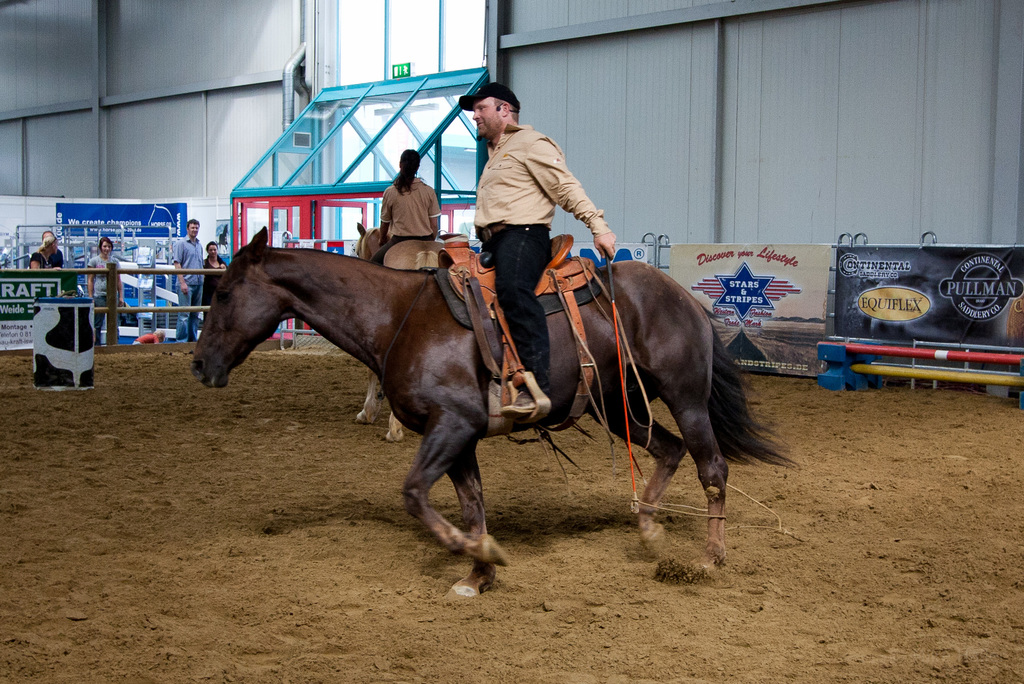horse: (189, 226, 800, 605)
